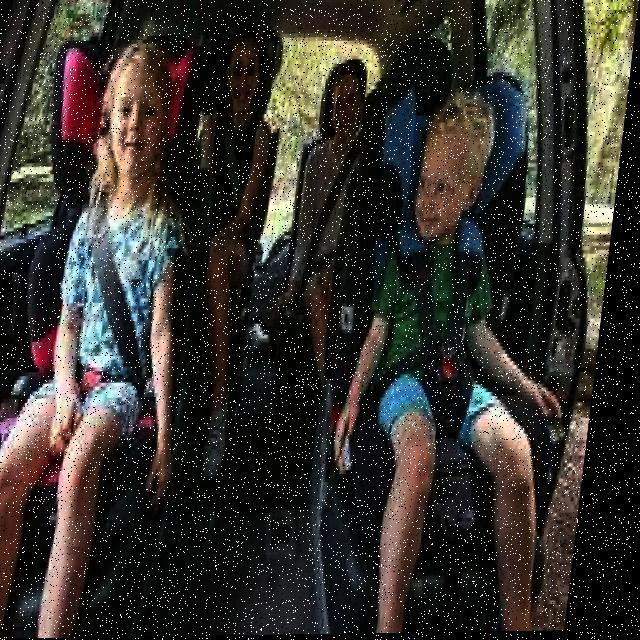seatbelt: (70, 193, 182, 427), (198, 89, 275, 259), (298, 132, 368, 294)
